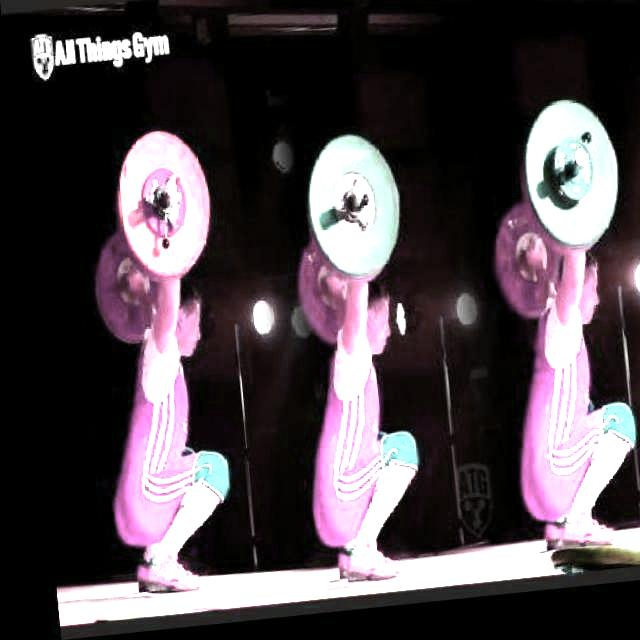barbell: (514, 103, 627, 270), (106, 123, 217, 290), (296, 133, 407, 297)
